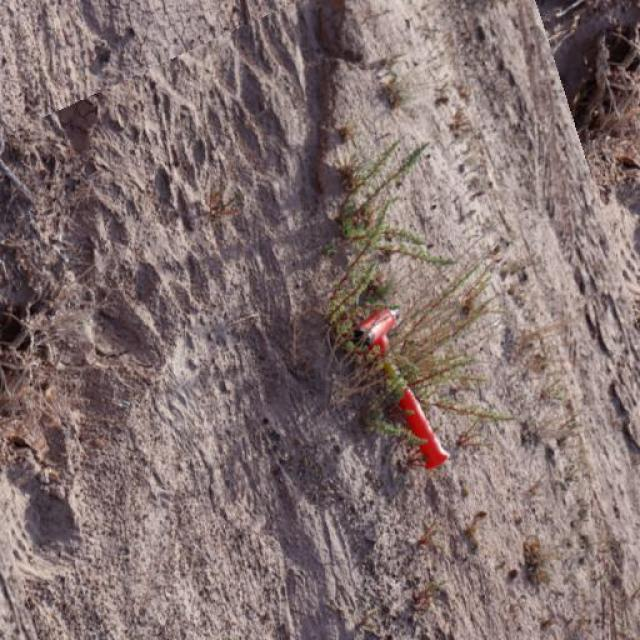mallet: (349, 304, 450, 470)
